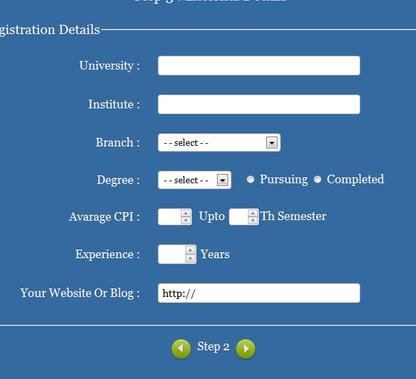field: (155, 281, 362, 305), (155, 54, 361, 77), (157, 93, 361, 115), (156, 133, 282, 153), (157, 170, 232, 191), (157, 243, 196, 266), (156, 207, 194, 227), (228, 206, 260, 227)
field_with_label: (20, 279, 364, 307), (77, 52, 362, 79), (89, 92, 362, 116), (95, 131, 283, 154), (98, 168, 233, 192), (75, 242, 199, 267), (69, 205, 195, 228), (226, 205, 327, 228), (198, 205, 262, 228)
radio: (246, 174, 257, 184), (314, 173, 322, 185)
radio_with_label: (312, 172, 383, 187), (243, 172, 308, 186)
